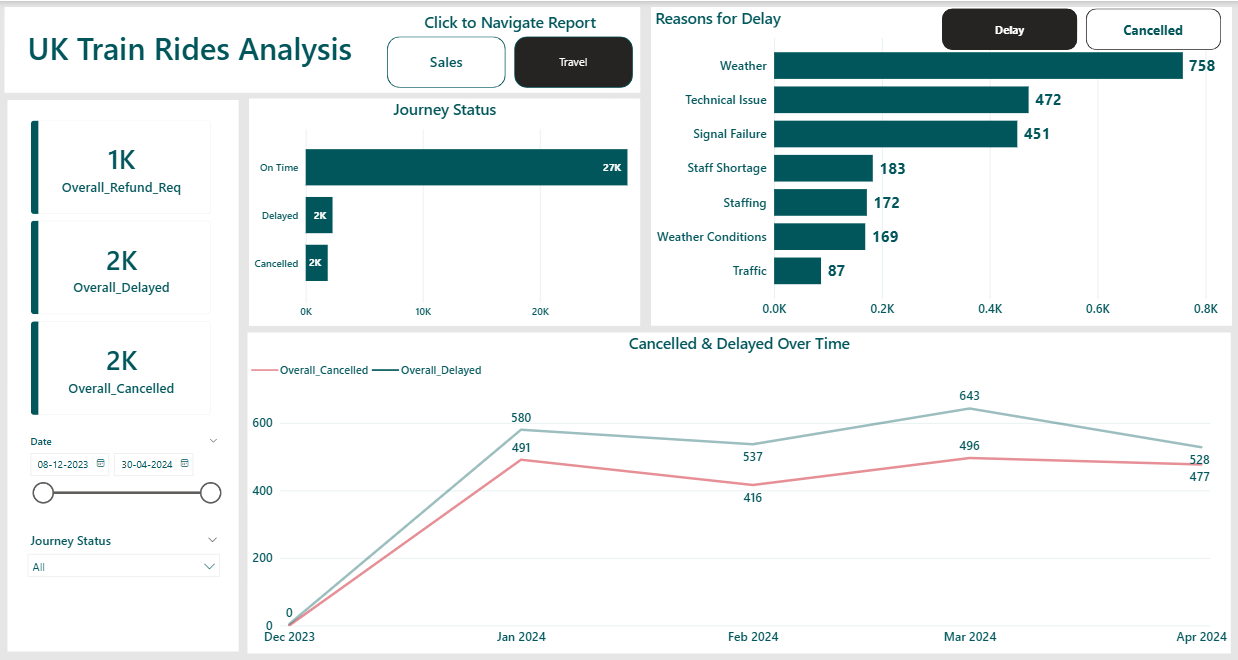

The page's visual inventory and layout, read from the dashboard file:
{"tool":"powerbi","page":{"name":"Travel","canvas":[1500,800],"ordinal":1},"visuals":[{"type":"shape","box":[11.9,119.4,278.5,664.5],"z":0},{"type":"shape","box":[9.9,7.4,766,103.6],"z":1000},{"type":"textbox","box":[23.5,25.3,417.5,74.1],"z":2000},{"type":"cardVisual","fields":{"Data":["Fact.Overall_Refund_Req","Fact.Overall_Delayed","Fact.Overall_Cancelled"]},"box":[23.5,126.5,251.2,390.4],"z":3000},{"type":"lineChart","title":"Cancelled & Delayed Over Time","fields":{"Category":["Date_Table.Date.Variation.Date Hierarchy.Year","Date_Table.Date.Variation.Date Hierarchy.Month"],"Y":["Fact.Overall_Cancelled","Fact.Overall_Delayed"]},"box":[301.5,400.1,1184.9,386.6],"z":4000},{"type":"barChart","title":"Journey Status","fields":{"Category":["Fact.Journey Status"],"Y":["Fact.Overall_Journey_Status"]},"box":[303.5,117.9,471.6,274],"z":5000},{"type":"barChart","title":"Reasons for Delay","fields":{"Y":["CountNonNull(Fact.Reason for Delay)"],"Category":["Fact.Reason for Delay"]},"box":[788.7,7.7,699.7,384],"z":6000},{"type":"pageNavigator","title":"Click to Navigate Report","box":[469.9,12.7,296.4,92.2],"z":8000},{"type":"bookmarkNavigator","box":[1138.6,9,336.2,50.6],"z":9000},{"type":"slicer","fields":{"Values":["Date_Table.Date"]},"box":[27.1,516.9,251.2,104.8],"z":10000},{"type":"slicer","fields":{"Values":["Fact.Journey Status"]},"box":[27.1,634.4,251.2,92.2],"z":11000}]}

Visuals, with their boxes in screenshot pixels (x1, y1, x2, y2), scaled from the page's 1500x800 canvas onto the 1238x660 screenshot:
shape: pyautogui.locateOnScreen(10, 99, 240, 647)
shape: pyautogui.locateOnScreen(8, 6, 640, 92)
textbox: pyautogui.locateOnScreen(19, 21, 364, 82)
cardVisual - Fact.Overall_Refund_Req x Fact.Overall_Delayed: pyautogui.locateOnScreen(19, 104, 227, 426)
"Cancelled & Delayed Over Time" lineChart: pyautogui.locateOnScreen(249, 330, 1227, 649)
"Journey Status" barChart: pyautogui.locateOnScreen(250, 97, 640, 323)
"Reasons for Delay" barChart: pyautogui.locateOnScreen(651, 6, 1228, 323)
"Click to Navigate Report" pageNavigator: pyautogui.locateOnScreen(388, 10, 632, 87)
bookmarkNavigator: pyautogui.locateOnScreen(940, 7, 1217, 49)
slicer - Date_Table.Date: pyautogui.locateOnScreen(22, 426, 230, 513)
slicer - Fact.Journey Status: pyautogui.locateOnScreen(22, 523, 230, 599)
